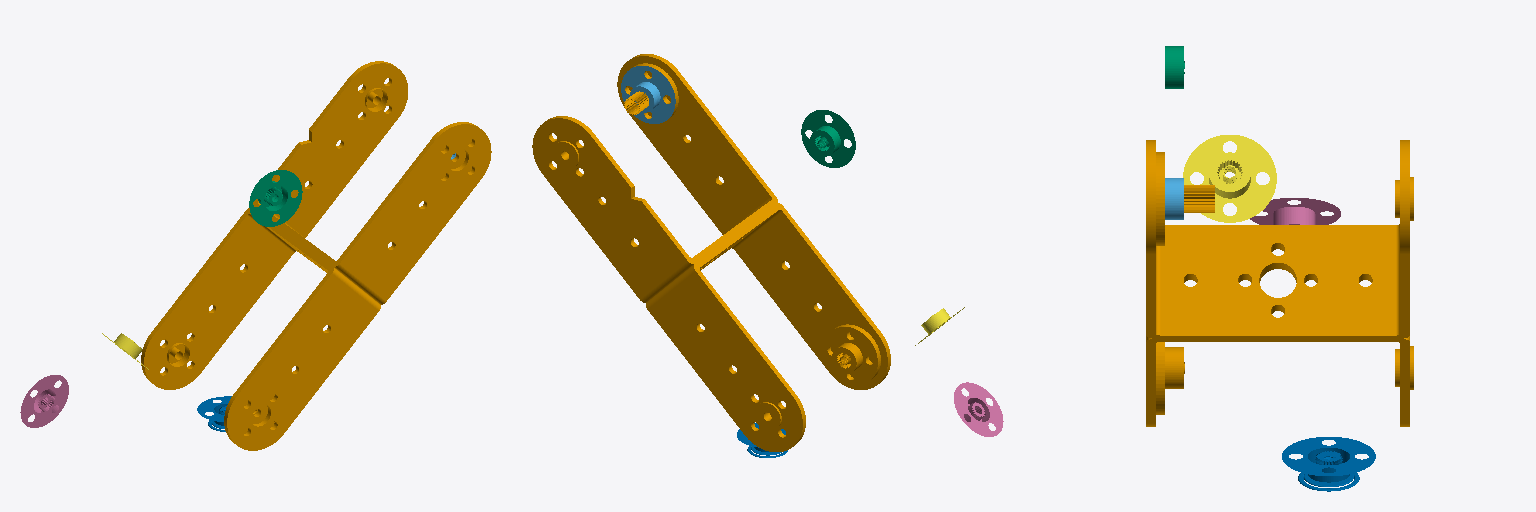
The robot description file, URDF, robot "robo_arm":
<?xml version="1.0"?>
<!-- created with Phobos 1.0.1 "Capricious Choutengan" -->
  <robot name="robo_arm">

    <link name="Arm">
      <inertial>
        <origin xyz="0 0 0" rpy="0 0 0"/>
        <mass value="0.1"/>
        <inertia ixx="0.05138" ixy="0" ixz="0" iyy="0.07741" iyz="0" izz="0.05138"/>
      </inertial>
      <visual name="Robo_Arm_mesh">
        <origin xyz="0 0 0" rpy="0 0.7854 0"/>
        <geometry>
          <mesh filename="package://arm_desc/meshes/dae/6-DOF Robot Mechanical Arm Kits v19 (1).005.dae" scale="1.0 1.0 1.0"/>
        </geometry>
      </visual>
      <collision name="Robo_Arm_mesh">
        <origin xyz="-0.01794 0.03784 -0.03618" rpy="0 1.5708 0"/>
        <geometry>
          <box size="0.54395 1.2334 2.85496"/>
        </geometry>
      </collision>
    </link>

    <link name="arm_1_motor">
      <inertial>
        <origin xyz="0 0 0" rpy="0 0 0"/>
        <mass value="0.1"/>
        <inertia ixx="0.00044" ixy="0" ixz="0" iyy="0.00074" iyz="0" izz="0.00044"/>
      </inertial>
      <visual name="Motor_3">
        <origin xyz="0 0 0" rpy="1.5708 0 0"/>
        <geometry>
          <mesh filename="package://arm_desc/meshes/dae/6-DOF Robot Mechanical Arm Kits v19 (1).003.dae" scale="1.0 1.0 1.0"/>
        </geometry>
      </visual>
      <collision name="Motor_3">
        <origin xyz="0 -6e-05 0.01712" rpy="3.14159 0 0"/>
        <geometry>
          <cylinder radius="0.21715" length="0.16644"/>
        </geometry>
      </collision>
    </link>

    <link name="arm_2_motor">
      <inertial>
        <origin xyz="0 0 0" rpy="0 0 0"/>
        <mass value="0.1"/>
        <inertia ixx="0.00044" ixy="0" ixz="0" iyy="0.00074" iyz="0" izz="0.00044"/>
      </inertial>
      <visual name="Motor_4">
        <origin xyz="0 0 0" rpy="1.5708 0 0"/>
        <geometry>
          <mesh filename="package://arm_desc/meshes/dae/6-DOF Robot Mechanical Arm Kits v19 (1).004.dae" scale="1.0 1.0 1.0"/>
        </geometry>
      </visual>
      <collision name="Motor_4">
        <origin xyz="0 -6e-05 0.01712" rpy="3.14159 0 0"/>
        <geometry>
          <cylinder radius="0.21715" length="0.16653"/>
        </geometry>
      </collision>
    </link>

    <link name="back">
      <inertial>
        <origin xyz="0 0 0" rpy="0 0 0"/>
        <mass value="0.1"/>
        <inertia ixx="0.01393" ixy="0" ixz="0" iyy="0.06387" iyz="0" izz="0.07119"/>
      </inertial>
      <visual name="Back">
        <origin xyz="0 0 0" rpy="0 0 0"/>
        <geometry>
          <mesh filename="package://arm_desc/meshes/dae/6-DOF Robot Mechanical Arm Kits v19 (1).006.dae" scale="1.0 1.0 1.0"/>
        </geometry>
      </visual>
      <collision name="Back">
        <origin xyz="0.03169 0.01865 -0.01747" rpy="0 0 0"/>
        <geometry>
          <box size="2.69593 1.12917 0.62973"/>
        </geometry>
      </collision>
    </link>

    <link name="base_plat_motor">
      <inertial>
        <origin xyz="0 0 0" rpy="0 0 0"/>
        <mass value="0.1"/>
        <inertia ixx="0.00051" ixy="0" ixz="0" iyy="0.00051" iyz="0" izz="0.00082"/>
      </inertial>
      <visual name="Motor_1">
        <origin xyz="0 0 0" rpy="0 0 0"/>
        <geometry>
          <mesh filename="package://arm_desc/meshes/dae/6-DOF Robot Mechanical Arm Kits v19 (1).001.dae" scale="1.0 1.0 1.0"/>
        </geometry>
      </visual>
      <collision name="Motor_1">
        <origin xyz="0 -7e-05 -0.0165" rpy="0 0 0"/>
        <geometry>
          <cylinder radius="0.21715" length="0.13589"/>
        </geometry>
      </collision>
    </link>

    <link name="gripper">
      <inertial>
        <origin xyz="0 0 0" rpy="0 0 0"/>
        <mass value="0.1"/>
        <inertia ixx="0.03169" ixy="0.00025" ixz="0.00755" iyy="0.02453" iyz="-0.00471" izz="0.02375"/>
      </inertial>
      <visual name="Gripper">
        <origin xyz="0 0 0" rpy="0 0.7854 0"/>
        <geometry>
          <mesh filename="package://arm_desc/meshes/dae/6-DOF Robot Mechanical Arm Kits v19 (1).009.dae" scale="1.0 1.0 1.0"/>
        </geometry>
      </visual>
      <collision name="Gripper.000">
        <origin xyz="0 0 0" rpy="0 0.7854 0"/>
        <geometry>
          <mesh filename="package://arm_desc/meshes/dae/6-DOF Robot Mechanical Arm Kits v19 (1).010.dae" scale="1.0 1.0 1.0"/>
        </geometry>
      </collision>
    </link>

    <link name="gripper_motor">
      <inertial>
        <origin xyz="0 0 0" rpy="0 0 0"/>
        <mass value="0.1"/>
        <inertia ixx="0.00062" ixy="0" ixz="0" iyy="0.00046" iyz="-0.00016" izz="0.00062"/>
      </inertial>
      <visual name="Motor_6">
        <origin xyz="0 0 0" rpy="0 0.7854 0"/>
        <geometry>
          <mesh filename="package://arm_desc/meshes/dae/6-DOF Robot Mechanical Arm Kits v19 (1).007.dae" scale="1.0 1.0 1.0"/>
        </geometry>
      </visual>
      <collision name="Motor_6">
        <origin xyz="-6e-05 0 0.02681" rpy="0 0 0"/>
        <geometry>
          <cylinder radius="0.15355" length="0.20245"/>
        </geometry>
      </collision>
    </link>

    <link name="hand">
      <inertial>
        <origin xyz="0 0 0" rpy="0 0 0"/>
        <mass value="0.1"/>
        <inertia ixx="0.02008" ixy="-9e-05" ixz="-9e-05" iyy="0.0147" iyz="-0.00597" izz="0.02006"/>
      </inertial>
      <visual name="Hand">
        <origin xyz="0 0 0" rpy="0 0.7854 0"/>
        <geometry>
          <mesh filename="package://arm_desc/meshes/dae/6-DOF Robot Mechanical Arm Kits v19 (1).012.dae" scale="1.0 1.0 1.0"/>
        </geometry>
      </visual>
      <collision name="Hand">
        <origin xyz="0.25343 0.02847 -0.00192" rpy="0 0 0"/>
        <geometry>
          <box size="1.63209 1.2334 0.52921"/>
        </geometry>
      </collision>
    </link>

    <link name="plat_arm_motor">
      <inertial>
        <origin xyz="0 0 0" rpy="0 0 0"/>
        <mass value="0.1"/>
        <inertia ixx="0.00044" ixy="0" ixz="0" iyy="0.00044" iyz="0" izz="0.00074"/>
      </inertial>
      <visual name="Motor_2">
        <origin xyz="0 0 0" rpy="1.5708 0 0"/>
        <geometry>
          <mesh filename="package://arm_desc/meshes/dae/6-DOF Robot Mechanical Arm Kits v19 (1).002.dae" scale="1.0 1.0 1.0"/>
        </geometry>
      </visual>
      <collision name="Motor_2">
        <origin xyz="2e-05 -6e-05 0.01771" rpy="3.14159 0 0"/>
        <geometry>
          <cylinder radius="0.21715" length="0.15802"/>
        </geometry>
      </collision>
    </link>

    <link name="platform">
      <inertial>
        <origin xyz="0 0 0" rpy="0 0 0"/>
        <mass value="0.1"/>
        <inertia ixx="0.00805" ixy="2e-05" ixz="-0.00024" iyy="0.00832" iyz="0.00011" izz="0.01272"/>
      </inertial>
      <visual name="Platform">
        <origin xyz="0 0 0" rpy="0 0 0"/>
        <geometry>
          <mesh filename="package://arm_desc/meshes/dae/6-DOF Robot Mechanical Arm Kits v19 (1).011.dae" scale="1.0 1.0 1.0"/>
        </geometry>
      </visual>
      <collision name="Platform">
        <origin xyz="0.01216 -0.03453 0.01668" rpy="0 0 0"/>
        <geometry>
          <box size="1.25946 1.05968 0.62973"/>
        </geometry>
      </collision>
    </link>

    <link name="root">
      <inertial>
        <origin xyz="0 0 0" rpy="0 0 0"/>
        <mass value="0.1"/>
        <inertia ixx="0.05513" ixy="0" ixz="0" iyy="0.05572" iyz="0" izz="0.06425"/>
      </inertial>
      <visual name="Base">
        <origin xyz="0 0 0" rpy="0 0 0"/>
        <geometry>
          <mesh filename="package://arm_desc/meshes/dae/6-DOF Robot Mechanical Arm Kits v19 (1).008.dae" scale="1.0 1.0 1.0"/>
        </geometry>
      </visual>
      <collision name="Base.000">
        <origin xyz="0 -0.01373 0.00582" rpy="0 0 0"/>
        <geometry>
          <mesh filename="package://arm_desc/meshes/dae/6-DOF Robot Mechanical Arm Kits v19 (1).000.dae" scale="1.0 1.0 1.0"/>
        </geometry>
      </collision>
    </link>

    <link name="wrist">
      <inertial>
        <origin xyz="0 0 0" rpy="0 0 0"/>
        <mass value="0.1"/>
        <inertia ixx="0.00059" ixy="0" ixz="0" iyy="0.00044" iyz="-0.00015" izz="0.00059"/>
      </inertial>
      <visual name="Motor_5">
        <origin xyz="0 0 0" rpy="0 -0.7854 0"/>
        <geometry>
          <mesh filename="package://arm_desc/meshes/dae/6-DOF Robot Mechanical Arm Kits v19 (1).013.dae" scale="1.0 1.0 1.0"/>
        </geometry>
      </visual>
      <collision name="Motor_5">
        <origin xyz="6e-05 2e-05 -0.02841" rpy="0 0 0"/>
        <geometry>
          <cylinder radius="0.15355" length="0.17554"/>
        </geometry>
      </collision>
    </link>

    <joint name="Arm" type="fixed">
      <origin xyz="0.79324 -0.84445 0.46365" rpy="1.5708 0 -0.7854"/>
      <parent link="plat_arm_motor"/>
      <child link="Arm"/>
    </joint>

    <joint name="arm_1_motor" type="revolute">
      <origin xyz="1.12203 -0.46375 -0.03621" rpy="-1.5708 0.7854 0"/>
      <parent link="Arm"/>
      <child link="arm_1_motor"/>
      <axis xyz="0 0 1.0"/>
      <limit lower="-2.35619" upper="2.35619" effort="0" velocity="0"/>
    </joint>

    <joint name="arm_2_motor" type="revolute">
      <origin xyz="-0.90914 -0.53505 0.01504" rpy="-1.5708 0 0"/>
      <parent link="back"/>
      <child link="arm_2_motor"/>
      <axis xyz="0 0 1.0"/>
      <limit lower="-2.35619" upper="2.35619" effort="0" velocity="0"/>
    </joint>

    <joint name="back" type="fixed">
      <origin xyz="-0.52734 0.01504 0.53505" rpy="1.5708 0 0"/>
      <parent link="arm_1_motor"/>
      <child link="back"/>
    </joint>

    <joint name="base_plat_motor" type="revolute">
      <origin xyz="-0.02656 -0.01366 0.94791" rpy="0 0 0"/>
      <parent link="root"/>
      <child link="base_plat_motor"/>
      <axis xyz="0 0 1.0"/>
      <limit lower="-2.35619" upper="2.35619" effort="0" velocity="0"/>
    </joint>

    <joint name="gripper" type="fixed">
      <origin xyz="0.17155 0.25631 -0.85661" rpy="0 -1.5708 0"/>
      <parent link="wrist"/>
      <child link="gripper"/>
    </joint>

    <joint name="gripper_motor" type="revolute">
      <origin xyz="0.20504 0.0412 0.19897" rpy="0 0 0"/>
      <parent link="gripper"/>
      <child link="gripper_motor"/>
      <axis xyz="0 0 1.0"/>
      <limit lower="-2.35619" upper="2.35619" effort="0" velocity="0"/>
    </joint>

    <joint name="hand" type="fixed">
      <origin xyz="-0.60071 0.59794 0.47312" rpy="1.5708 0 -0.7854"/>
      <parent link="arm_2_motor"/>
      <child link="hand"/>
    </joint>

    <joint name="plat_arm_motor" type="revolute">
      <origin xyz="-0.21044 -0.53602 0.04919" rpy="-1.5708 0 0"/>
      <parent link="platform"/>
      <child link="plat_arm_motor"/>
      <axis xyz="0 0 1.0"/>
      <limit lower="-2.35619" upper="2.35619" effort="0" velocity="0"/>
    </joint>

    <joint name="platform" type="fixed">
      <origin xyz="-0.01216 -0.19137 0.3414" rpy="0 0 0"/>
      <parent link="base_plat_motor"/>
      <child link="platform"/>
    </joint>

    <joint name="wrist" type="revolute">
      <origin xyz="-0.62445 -0.20282 -0.00186" rpy="0 1.5708 0"/>
      <parent link="hand"/>
      <child link="wrist"/>
      <axis xyz="0 0 1.0"/>
      <limit lower="-2.35619" upper="2.35619" effort="0" velocity="0"/>
    </joint>

  </robot>


--- What the picture shows (computed from the rendered views, not written in the file) ---
Views: 3 orthographic renders of the robot side by side, from view 1: azimuth 30°, elevation 25°; view 2: azimuth 150°, elevation 25°; view 3: azimuth 270°, elevation 25°.
Robot: robo_arm — 12 links, 11 joints (6 revolute, 5 fixed); root link root; default pose: all joints at 0.
Visible links, largest first — view 1: Arm, arm_2_motor, gripper_motor, base_plat_motor; view 2: Arm, plat_arm_motor, arm_2_motor, arm_1_motor, gripper_motor; view 3: Arm, wrist, base_plat_motor, gripper_motor, arm_2_motor, plat_arm_motor, arm_1_motor.
Boxes of the visible links, x1=… form: Arm: x1=141, y1=61, x2=491, y2=450; arm_2_motor: x1=249, y1=170, x2=302, y2=226; gripper_motor: x1=20, y1=375, x2=68, y2=427; base_plat_motor: x1=197, y1=396, x2=231, y2=431; Arm: x1=532, y1=54, x2=890, y2=451; plat_arm_motor: x1=823, y1=327, x2=877, y2=384; arm_2_motor: x1=801, y1=110, x2=855, y2=167; arm_1_motor: x1=621, y1=66, x2=675, y2=123; gripper_motor: x1=954, y1=382, x2=1003, y2=436; Arm: x1=1146, y1=140, x2=1413, y2=426; wrist: x1=1183, y1=135, x2=1276, y2=222; base_plat_motor: x1=1282, y1=437, x2=1375, y2=491; gripper_motor: x1=1250, y1=198, x2=1340, y2=224; arm_2_motor: x1=1165, y1=46, x2=1184, y2=88; plat_arm_motor: x1=1165, y1=347, x2=1184, y2=388; arm_1_motor: x1=1165, y1=178, x2=1183, y2=219.
Size in the robot's own frame: 3.4 by 1.23 by 2.35 metres.
7 mesh visuals loaded from 12 distinct referenced files (7 Collada DAE); not drawn: 5 (reference not matched to a file when rendering).